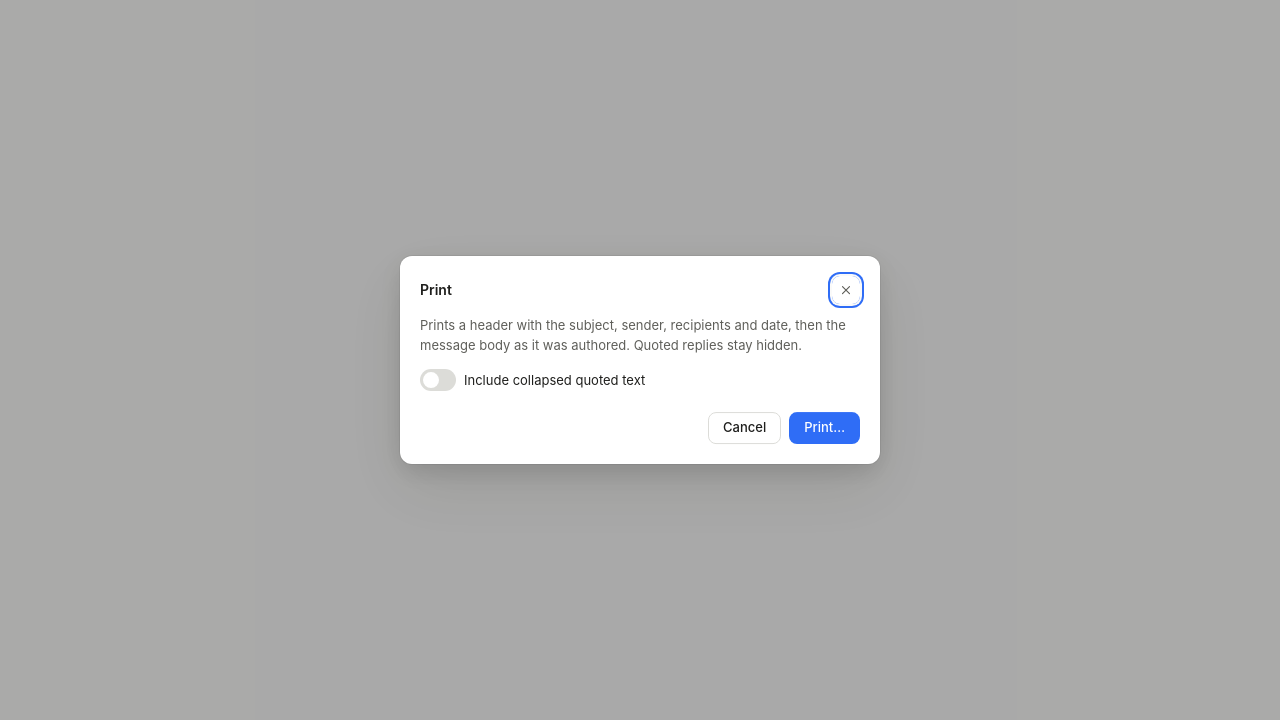
Print dialog (P9.3) › reports that printing is unavailable instead of failing silently
The width and height of the screenshot is (1280, 720).
Click the button "Print…" at point(825, 428), box [789,412,860,444]
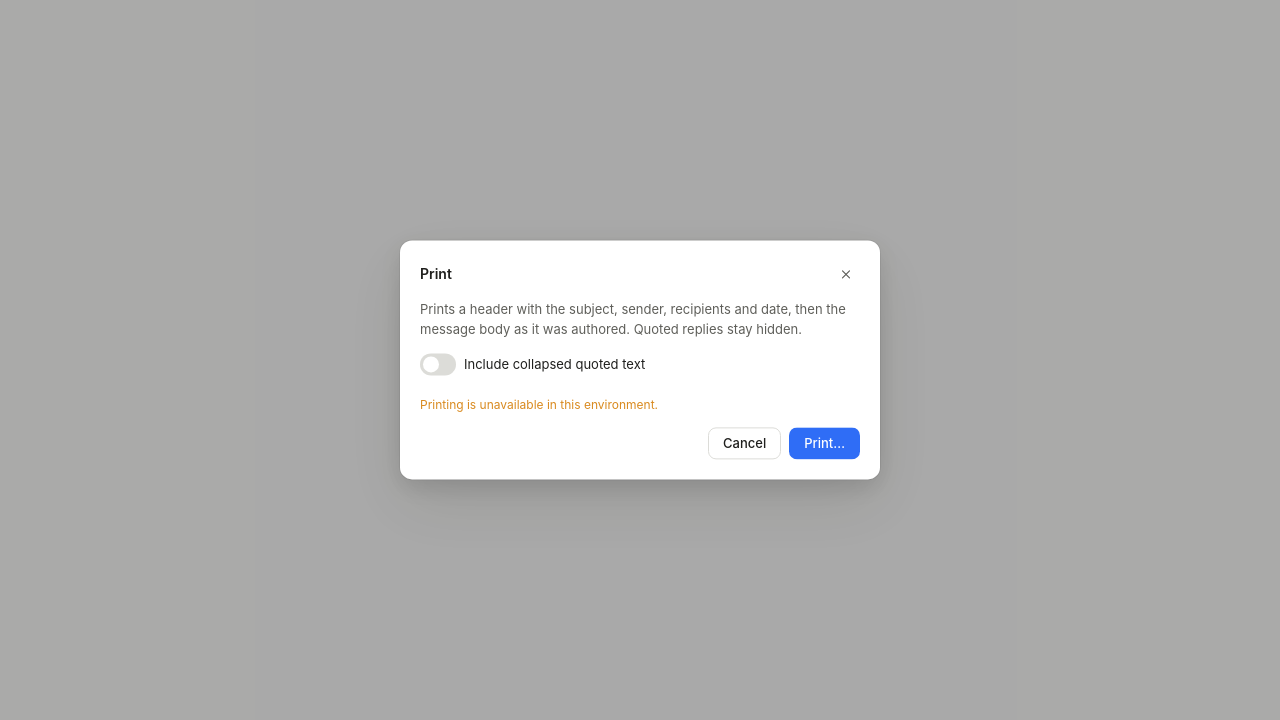
Now the text "Printing is unavailable in this environment." is shown, box [420,397,658,412]
